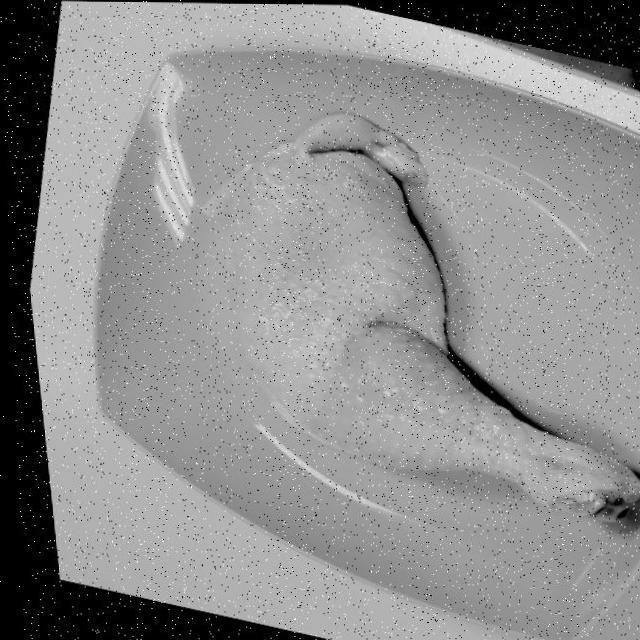quater: (223, 128, 640, 534)
